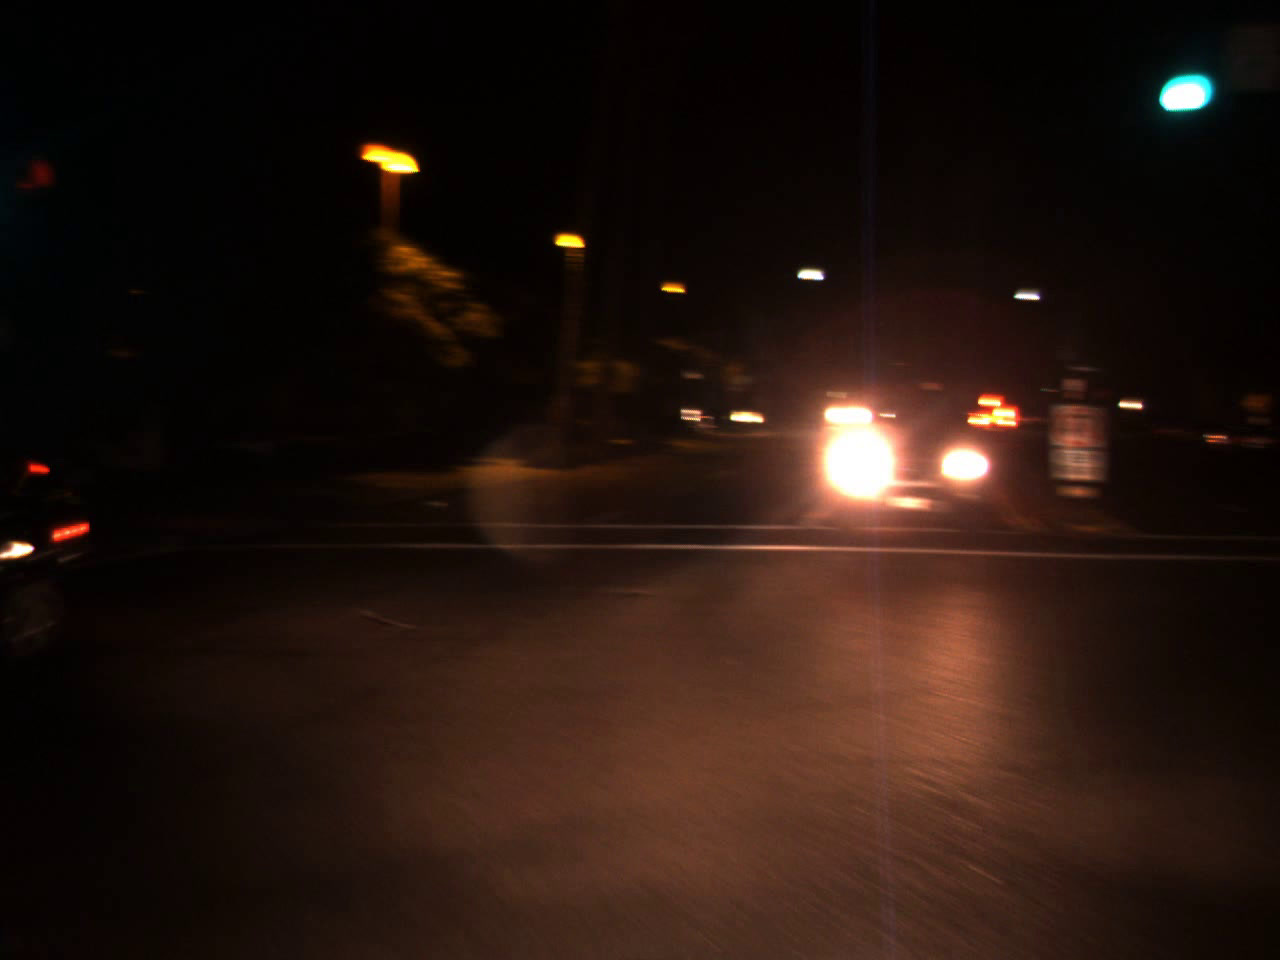go: (1154, 44, 1206, 122)
